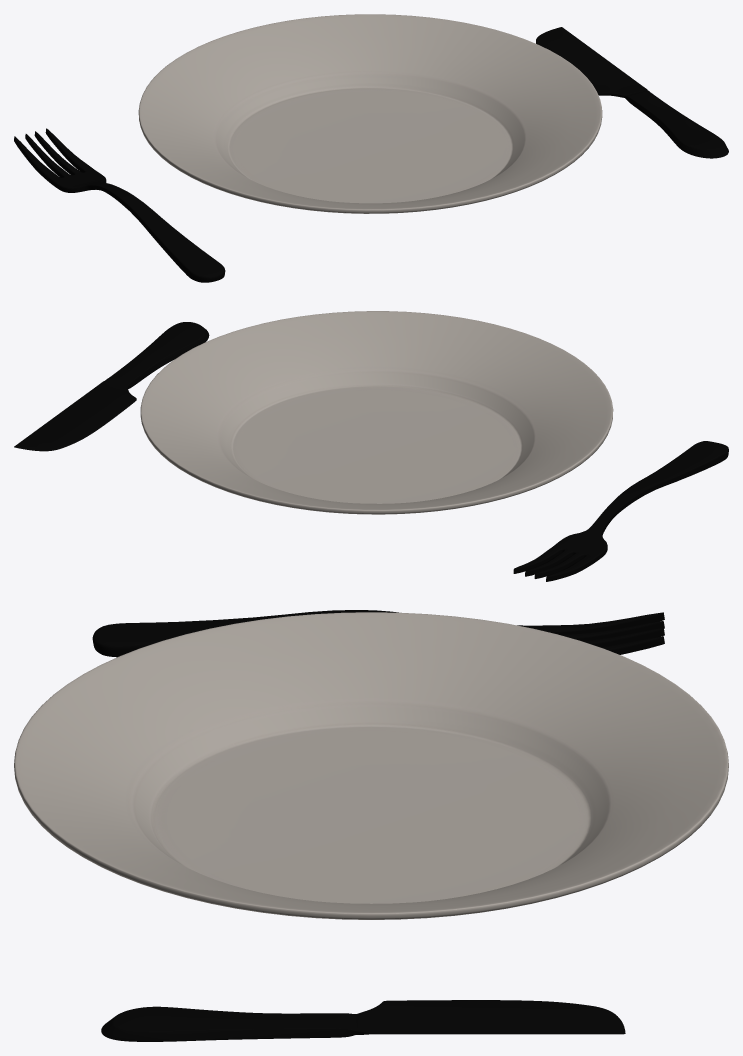
The model's file is kitchen6.glb.
3 views of the same model, one above another, from view 1: azimuth 30°, elevation 25°; view 2: azimuth 150°, elevation 25°; view 3: azimuth 270°, elevation 25° (orthographic). The views are drawn at different scales.
Visible parts, largest first — view 1: node_id117; view 2: node_id117; view 3: node_id117.
Part boxes in pixels (x1,y1,x2,y2): node_id117: (14, 14, 728, 282); node_id117: (14, 311, 728, 581); node_id117: (14, 610, 728, 1041).
Size of the model in its own units: 0.512 by 0.0413 by 0.3774.
Materials: 1 (1 with a texture image).
